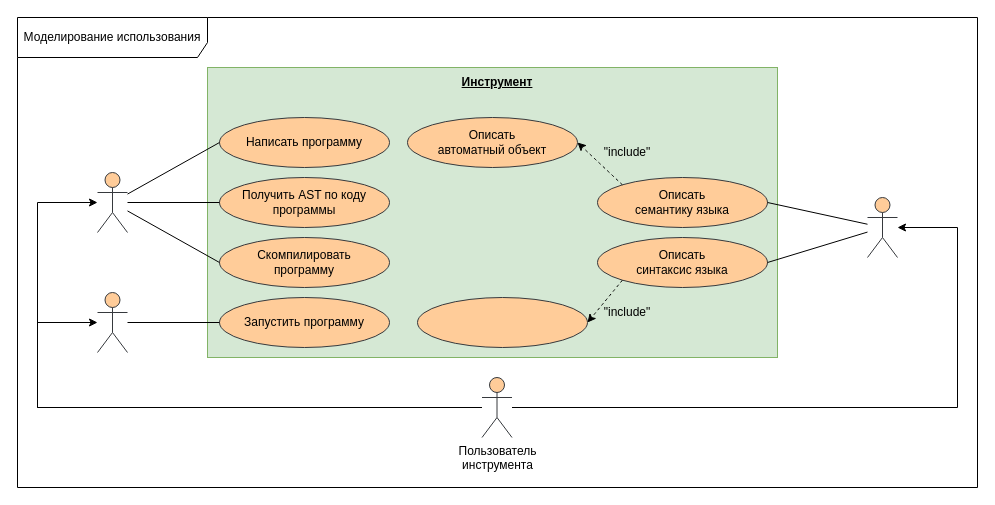
The diagram is 995 pixels wide and 505 high, and some of its shapes have lost their labels. The shapes that lost their labels are listed below. From the top down, each one's centre as x and y in pixels, then its label:
the point at 112,202: Пользователь DSL
the point at 882,227: Сильный пользователь (создатель DSL)
the point at 112,322: Пользователь программы
the point at 502,322: Описать грамматику языка
